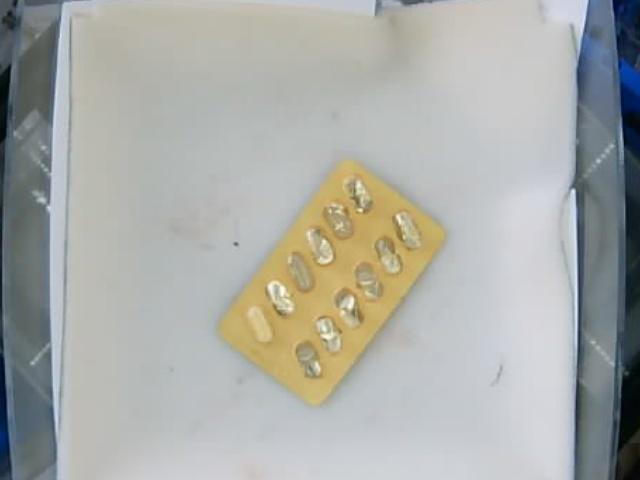Medicine: (214, 157, 442, 406)
